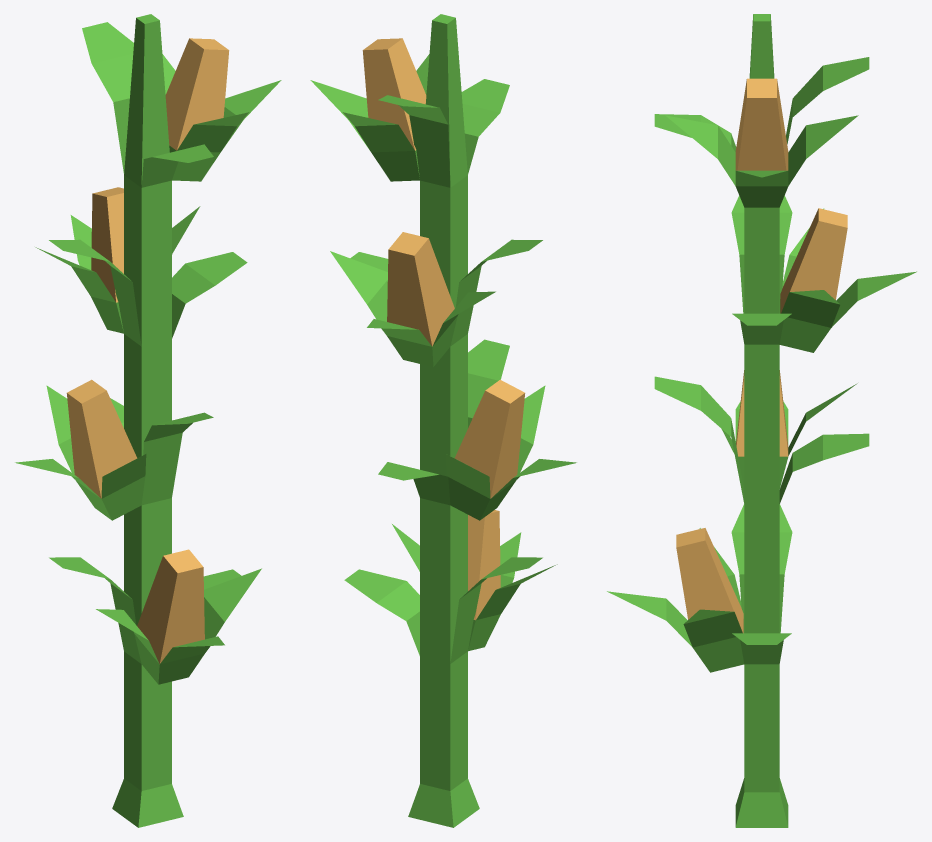
Rendered from crops_cornStageD.glb.
The picture shows the model from 3 angles, left to right: view 1: azimuth 30°, elevation 25°; view 2: azimuth 150°, elevation 25°; view 3: azimuth 270°, elevation 25°; orthographic projection.
Parts seen in each view (by area): view 1: crops_cornStageD, corn (×4); view 2: crops_cornStageD, corn (×4); view 3: crops_cornStageD, corn (×4).
Part boxes in pixels (x1,y1,x2,y2): crops_cornStageD: (49,14,247,827); corn (×4): (15,38,281,684); crops_cornStageD: (344,14,542,827); corn (×4): (310,38,576,651); crops_cornStageD: (654,14,869,827); corn (×4): (607,78,916,672).
Bounding box in the file's own units: 0.4416 × 1.25 × 0.4416.
